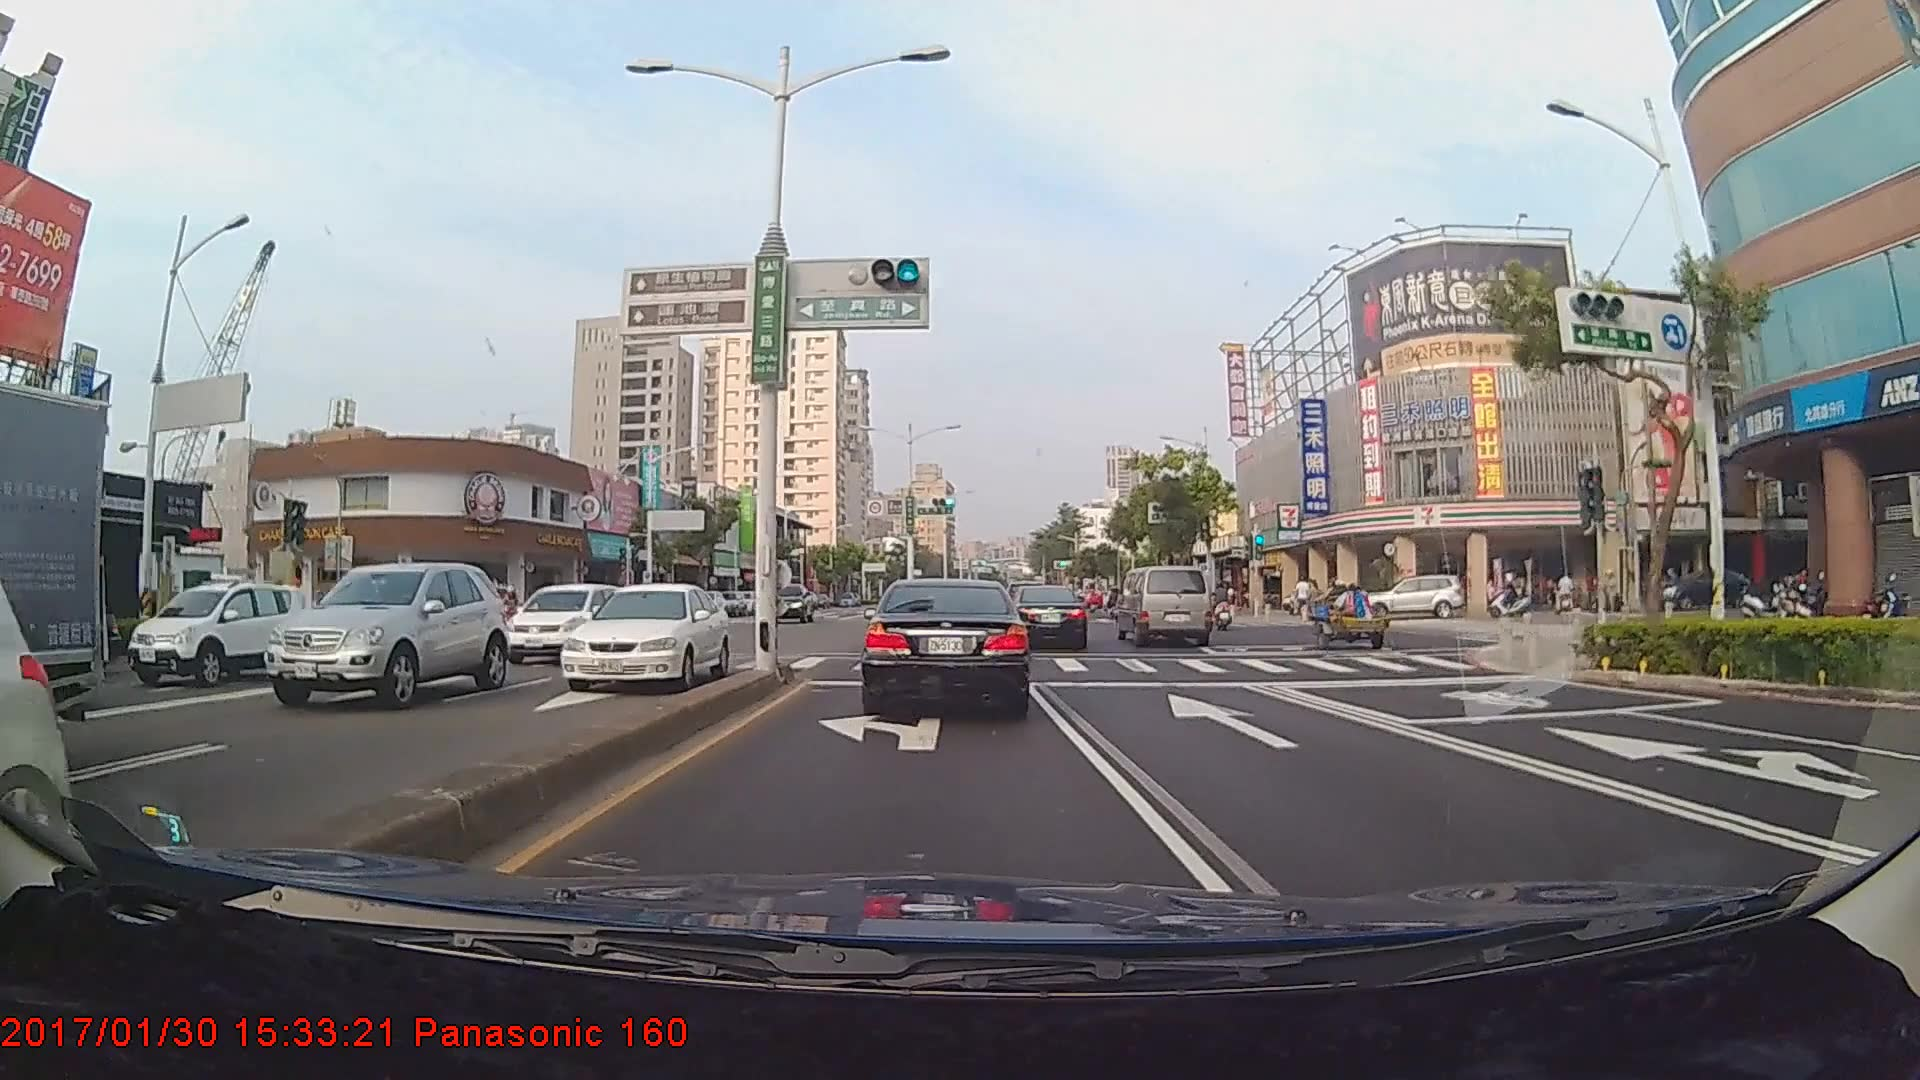rider: (490, 583, 528, 639), (1207, 582, 1240, 635)
vehicle: (244, 556, 498, 711), (0, 381, 111, 730), (863, 574, 1031, 717), (553, 580, 735, 692), (6, 545, 62, 894), (138, 575, 296, 690), (501, 582, 630, 662), (1116, 563, 1214, 648), (1010, 584, 1090, 651), (1371, 573, 1468, 621)
